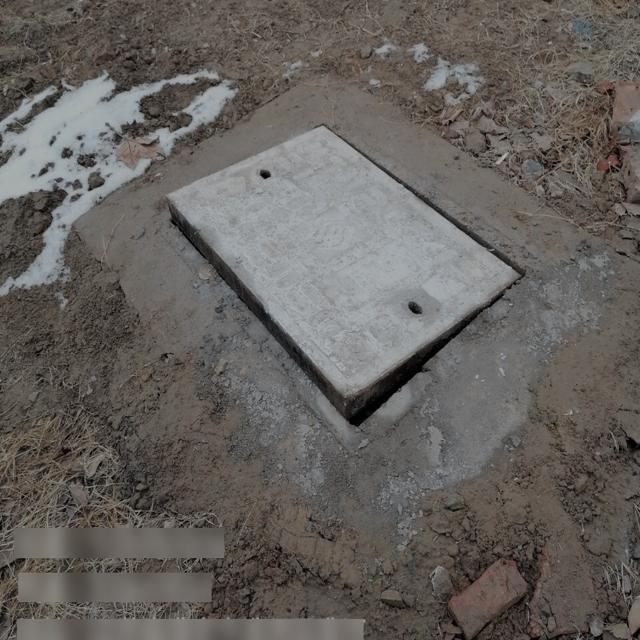uncovered: (157, 118, 544, 450)
